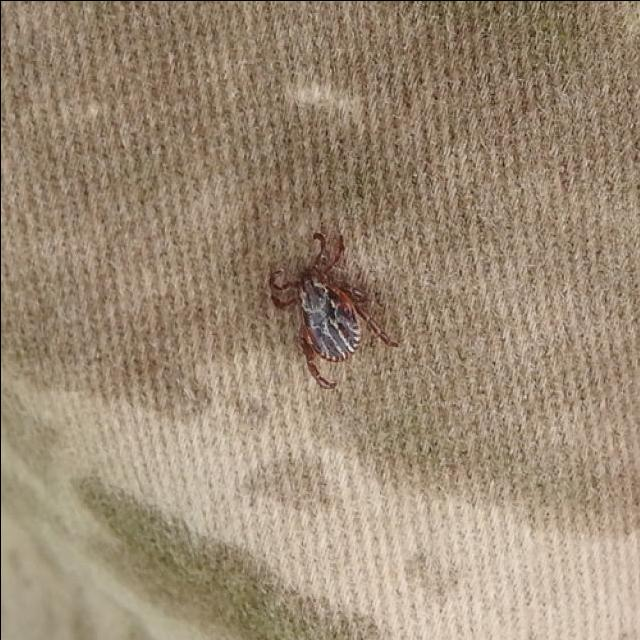Dermacentor Reticulatus-M: (269, 231, 398, 388)
